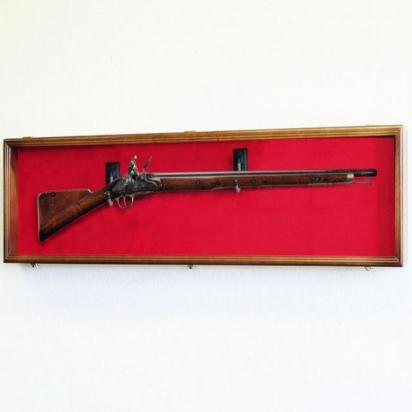Gun: (36, 142, 380, 244)
